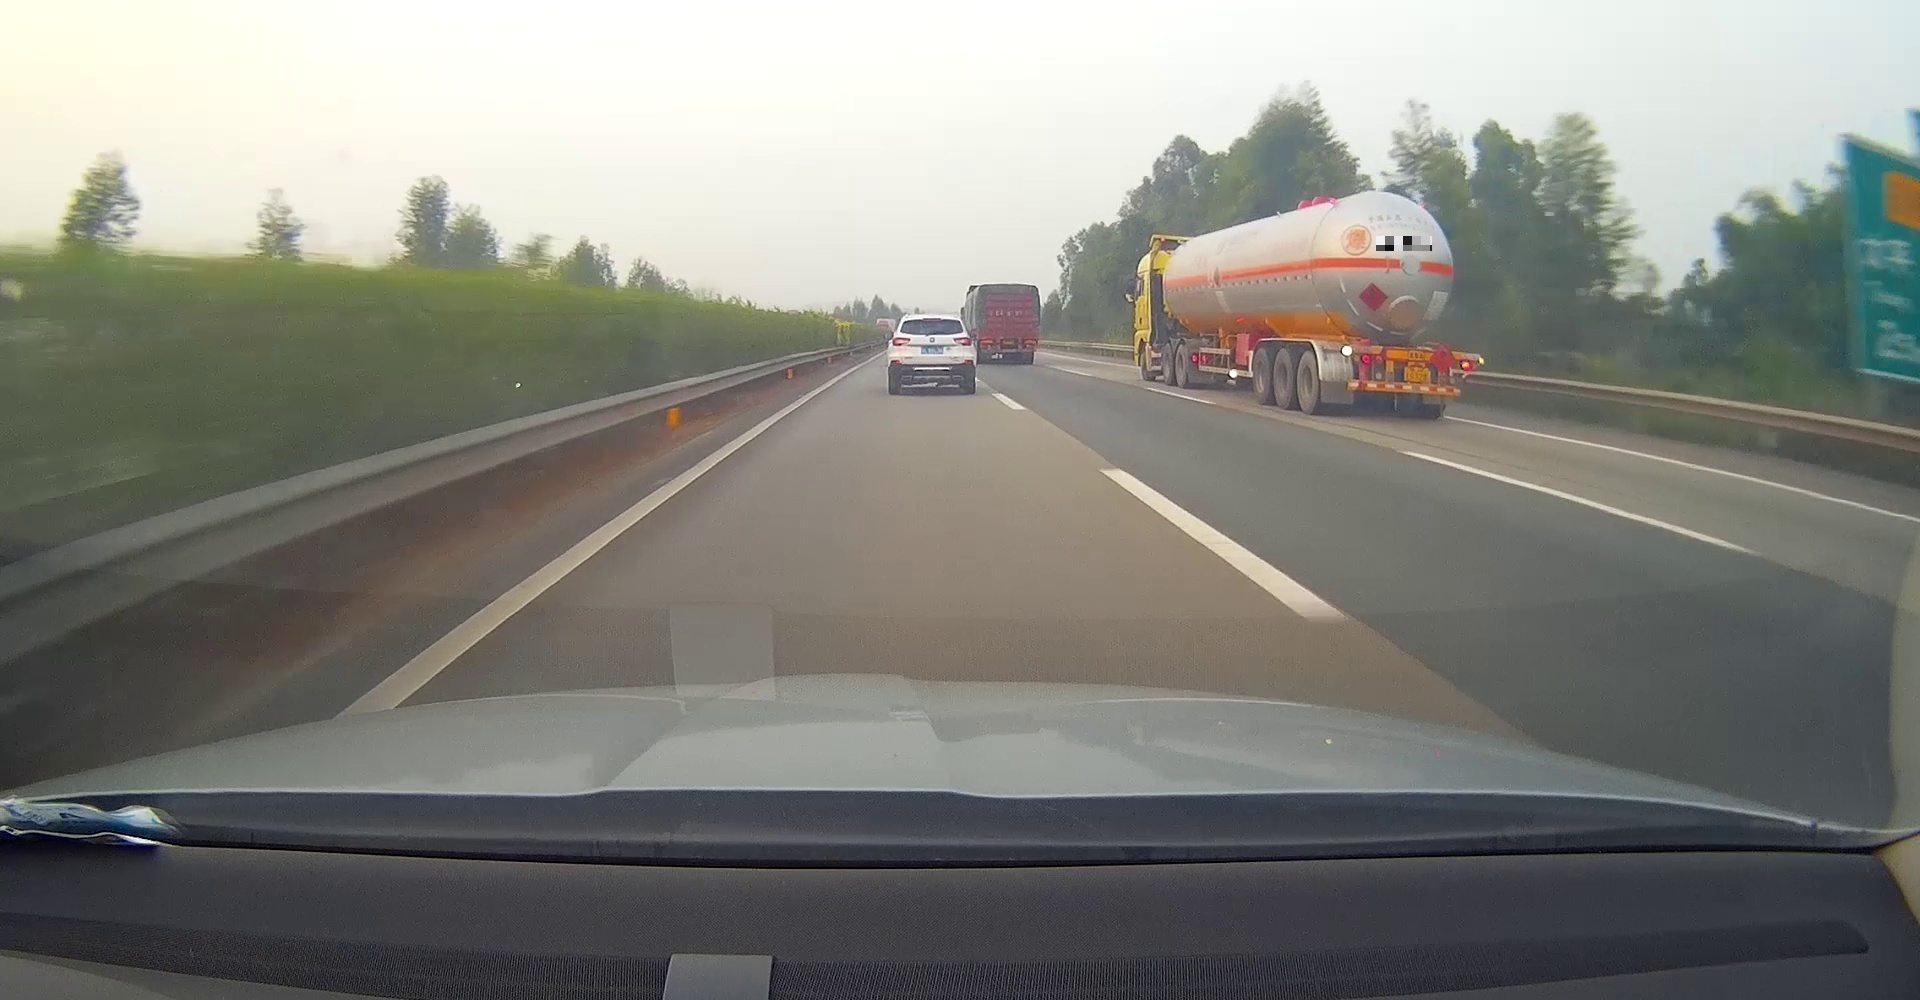L_light: (1355, 353, 1383, 364), (893, 338, 910, 346), (980, 340, 993, 344)
R_light: (1451, 360, 1476, 371), (952, 338, 971, 345), (1023, 340, 1036, 344)
T_light: (1407, 349, 1426, 360), (923, 317, 941, 322), (1002, 291, 1015, 294)
day-no: (1338, 343, 1484, 418), (888, 313, 974, 395), (977, 286, 1039, 364)
plate_1: (1377, 236, 1432, 251)
